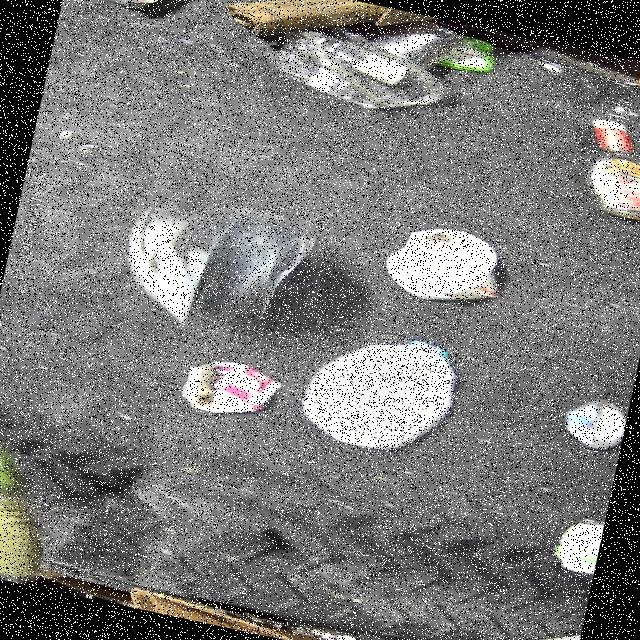milk-jug: (292, 317, 466, 463)
